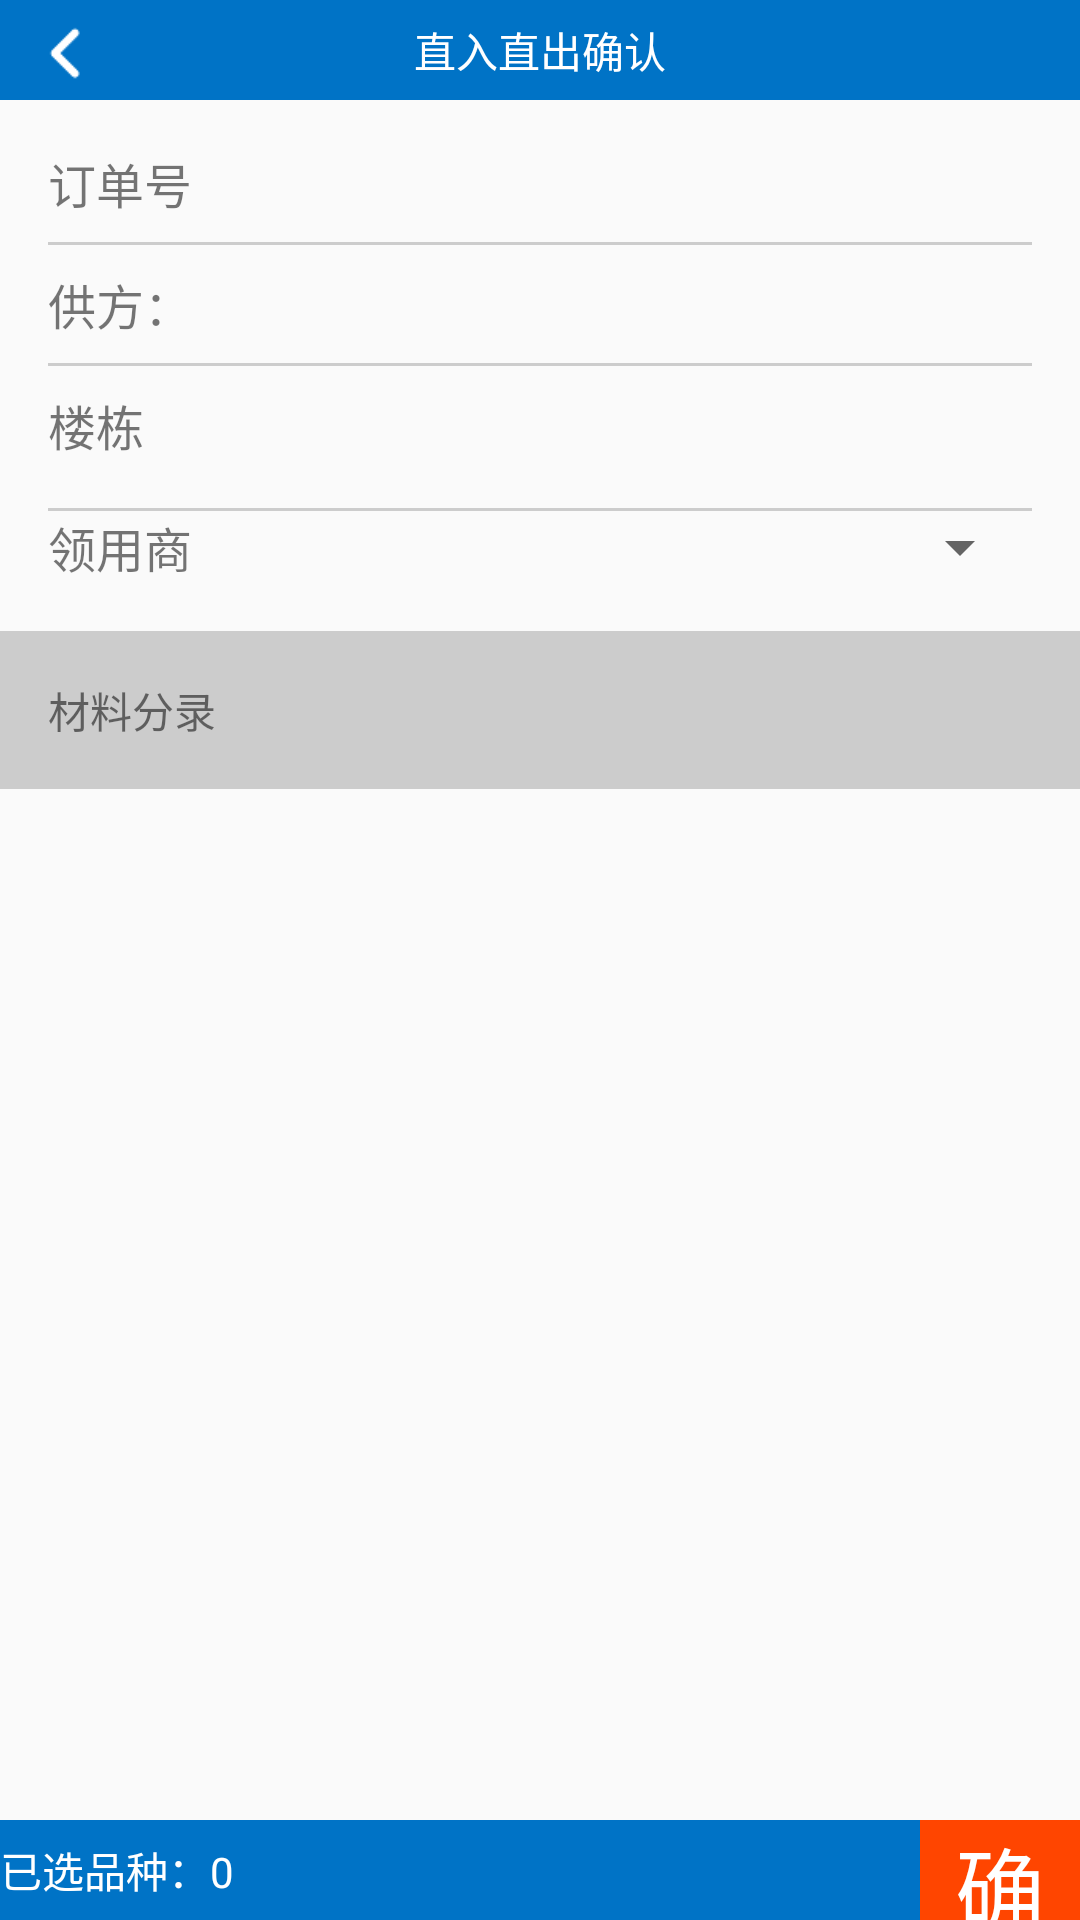

Screen size 1080×1920. Icon name, then its center in pixels as (x,y):
arrow left: (65,53)
